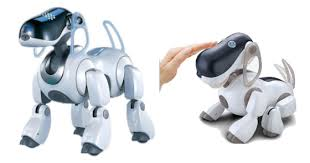cake: (9, 8, 151, 157)
cell phone: (195, 34, 260, 107), (196, 37, 252, 82)
dog: (194, 35, 277, 138)
person: (14, 16, 289, 156), (167, 30, 297, 144)
scissors: (77, 14, 142, 126), (21, 9, 83, 113), (36, 17, 81, 83)
teddy bear: (76, 98, 113, 152)
